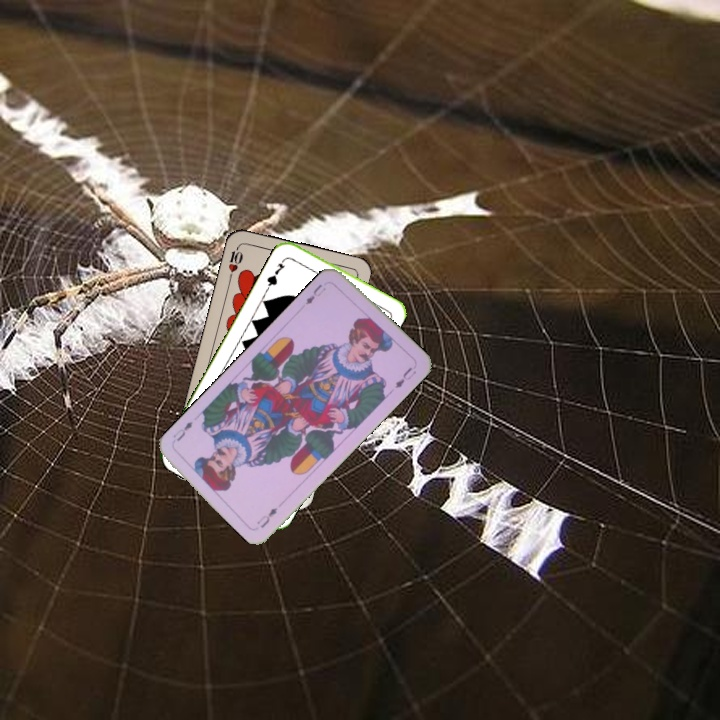EU: (301, 280, 329, 307), (253, 503, 280, 531)
G7: (263, 259, 287, 291)
H10: (224, 242, 246, 282)
